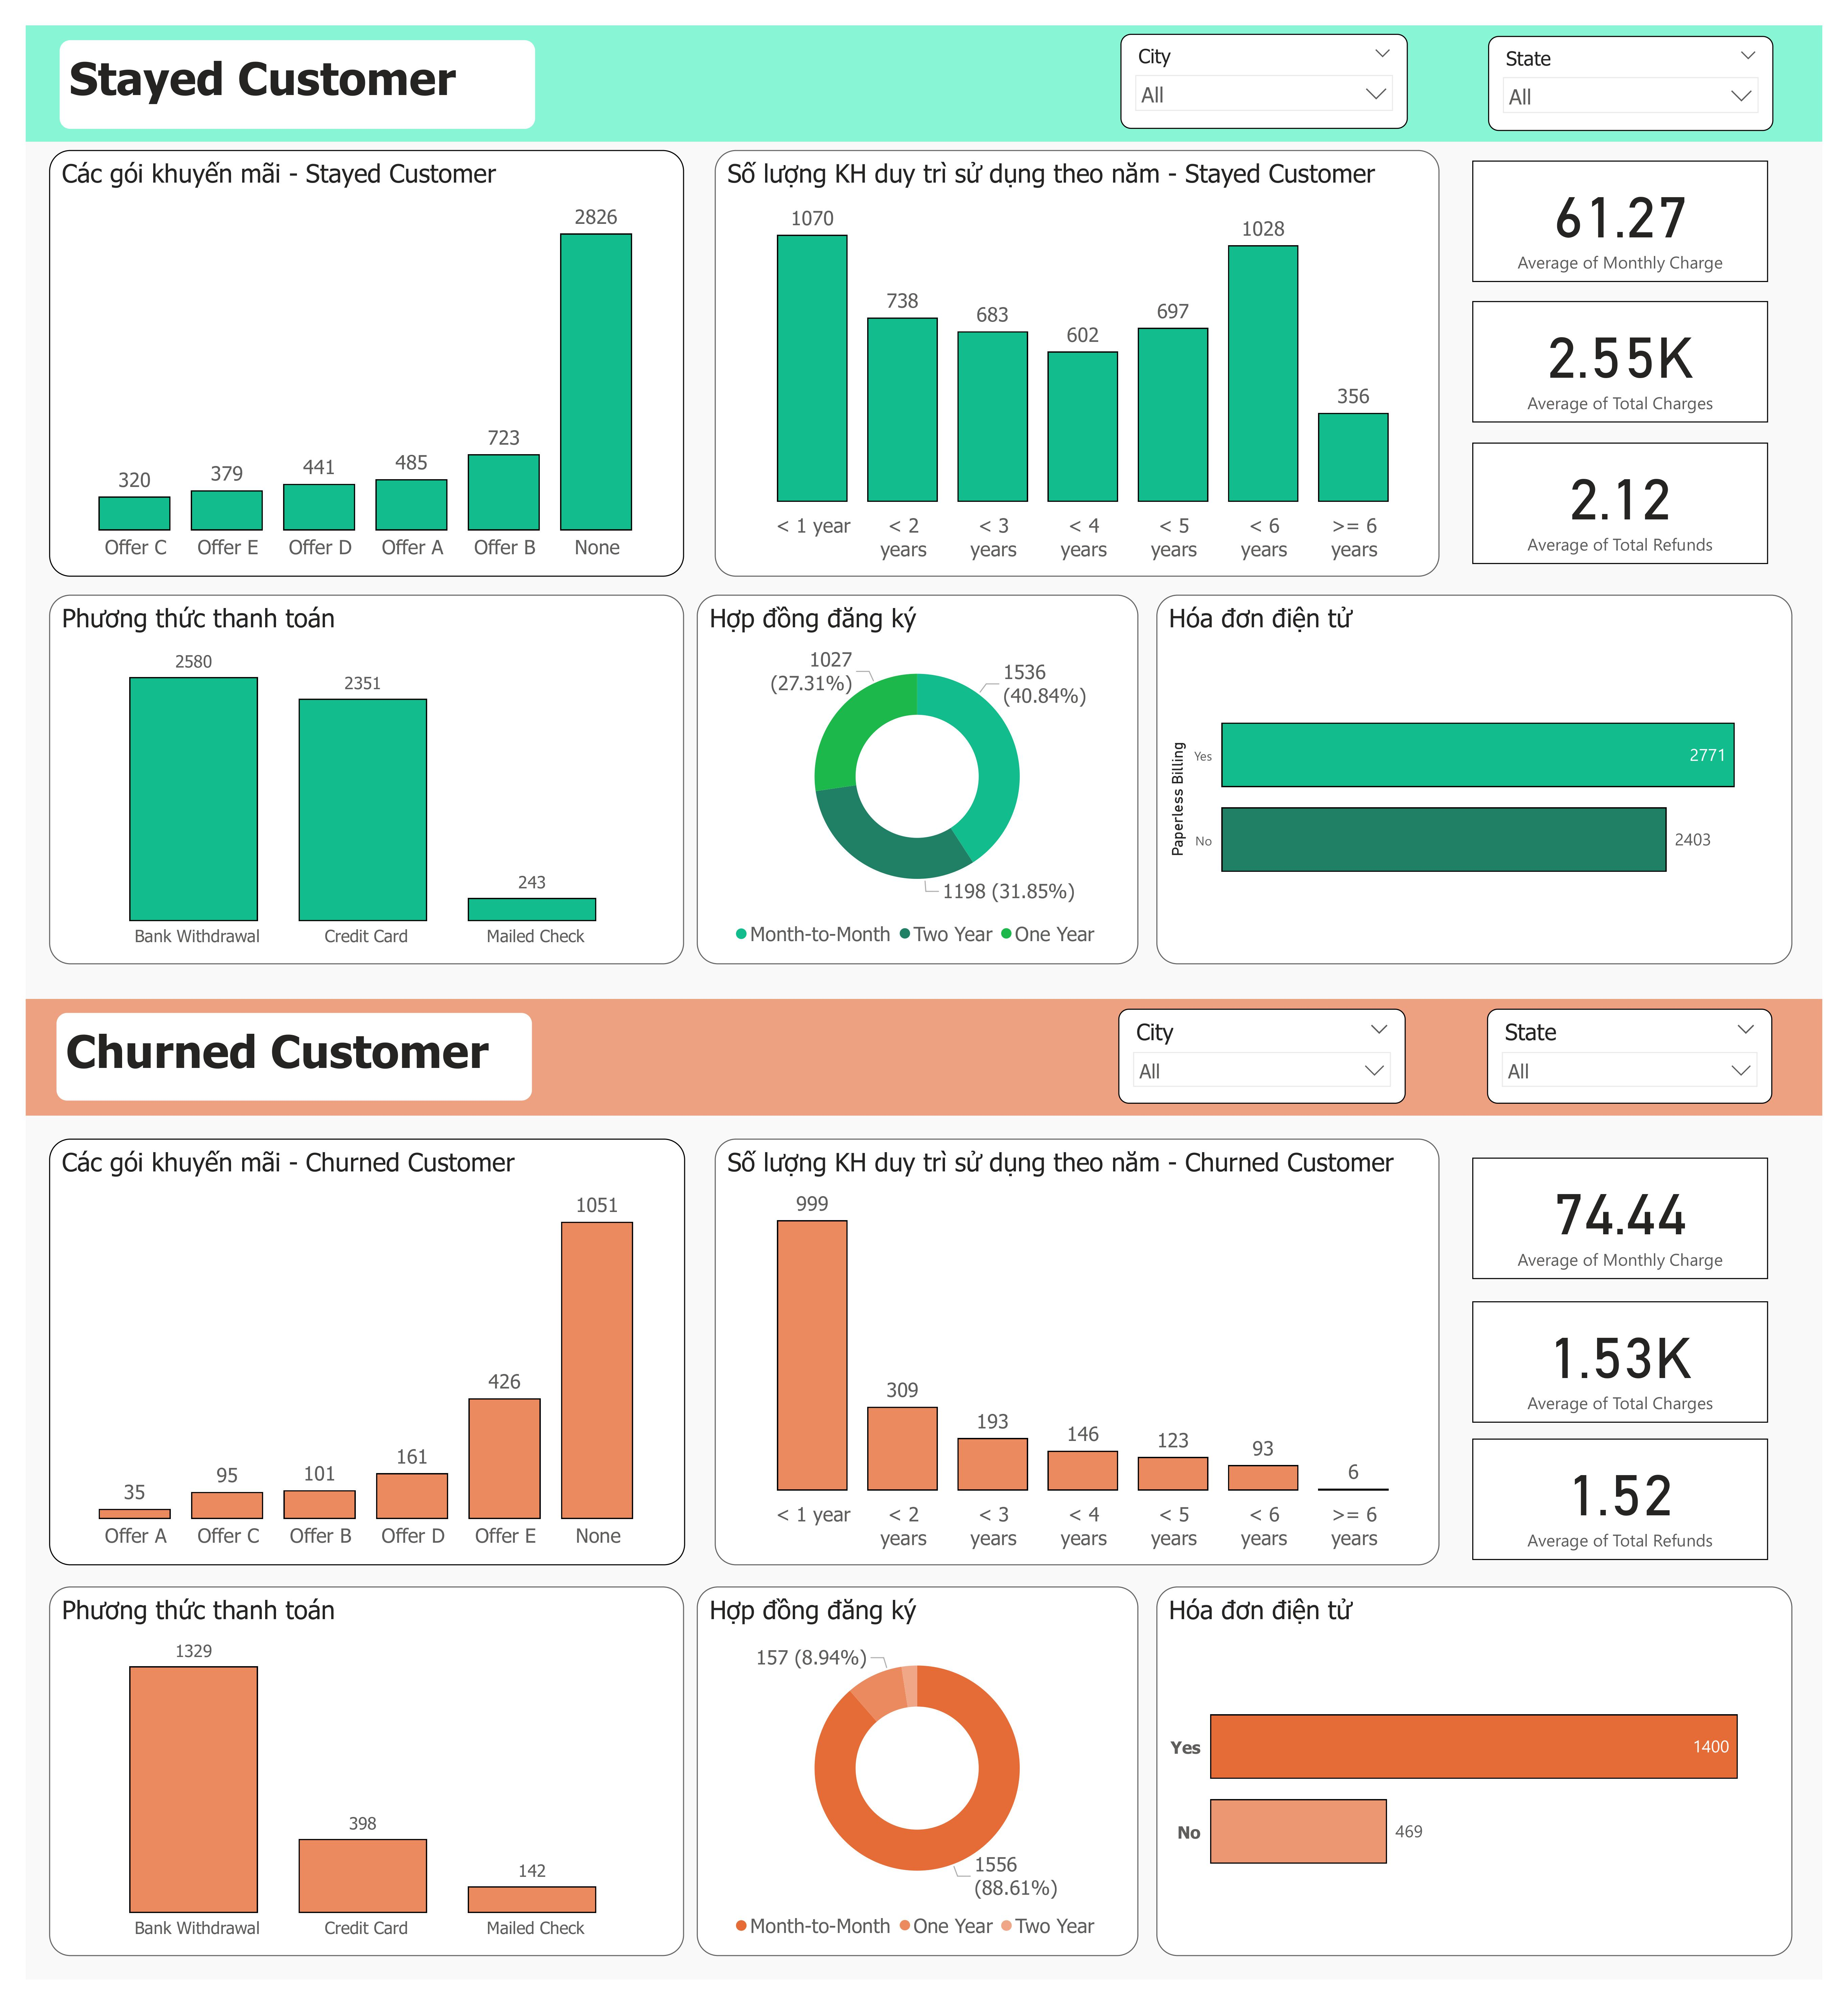

What the dashboard file says about the page in this screenshot:
{"tool":"powerbi","page":{"name":"Contract & Payment","canvas":[1700,1850],"ordinal":2},"visuals":[{"type":"shape","box":[0,922,1700,110],"z":0},{"type":"shape","box":[0,0,1700,110],"z":1000},{"type":"textbox","box":[32,14,450,84],"z":2000},{"type":"textbox","box":[29.3,934.7,450,83.3],"z":3000},{"type":"donutChart","title":"Hợp đồng đăng ký ","fields":{"Category":["Services.Contract"],"Y":["Status.Stayed Customer"]},"box":[635,539.1,418.3,350],"z":4000},{"type":"columnChart","title":"Phương thức thanh toán","fields":{"Category":["Services.Payment Method"],"Y":["Status.Stayed Customer"]},"box":[21.7,539.1,601.7,350],"z":5000},{"type":"barChart","title":"Hóa đơn điện tử","fields":{"Category":["Services.Paperless Billing"],"Y":["Status.Stayed Customer"]},"box":[1070,539.1,601.7,350],"z":6000},{"type":"donutChart","title":"Hợp đồng đăng ký","fields":{"Category":["Services.Contract"],"Y":["Status.Churn Customer"]},"box":[635,1478.3,418.3,350],"z":7000},{"type":"columnChart","title":"Phương thức thanh toán","fields":{"Category":["Services.Payment Method"],"Y":["Status.Churn Customer"]},"box":[21.7,1478.3,601.7,350],"z":8000},{"type":"barChart","title":"Hóa đơn điện tử","fields":{"Category":["Services.Paperless Billing"],"Y":["Status.Churn Customer"]},"box":[1070,1478.3,601.7,350],"z":9000},{"type":"columnChart","title":"Các gói khuyến mãi - Stayed Customer","fields":{"Category":["Services.Offer"],"Y":["Status.Stayed Customer"]},"box":[21.7,118.3,601.7,403.3],"z":10000},{"type":"columnChart","title":"Các gói khuyến mãi - Churned Customer","fields":{"Category":["Services.Offer"],"Y":["Status.Churn Customer"]},"box":[22,1054,602,404],"z":11000},{"type":"card","fields":{"Values":["Avg(Services.Total Charges)"]},"box":[1368.7,261.2,280,115],"z":12000},{"type":"card","fields":{"Values":["Avg(Services.Monthly Charge)"]},"box":[1368.7,127.9,280,115],"z":13000},{"type":"card","fields":{"Values":["Avg(Services.Total Refunds)"]},"box":[1368.7,394.5,280,115],"z":14000},{"type":"card","fields":{"Values":["Avg(Services.Total Charges)"]},"box":[1368.7,1208.3,280,115],"z":15000},{"type":"card","fields":{"Values":["Avg(Services.Monthly Charge)"]},"box":[1368.7,1071.6,280,115],"z":16000},{"type":"card","fields":{"Values":["Avg(Services.Total Refunds)"]},"box":[1368.7,1338.3,280,115],"z":17000},{"type":"columnChart","title":"Số lượng KH duy trì sử dụng theo năm - Stayed Customer","fields":{"Y":["Status.Stayed Customer"],"Category":["Services.Tenure in Year"]},"box":[651.7,118.3,686.7,403.3],"z":18000},{"type":"columnChart","title":"Số lượng KH duy trì sử dụng theo năm - Churned Customer","fields":{"Category":["Services.Tenure in Year"],"Y":["Status.Churn Customer"]},"box":[652,1054,686,404],"z":19000},{"type":"slicer","fields":{"Values":["Location.City"]},"box":[1036,8,272,90],"z":20000},{"type":"slicer","fields":{"Values":["Location.State"]},"box":[1384,10,270,90],"z":21000},{"type":"slicer","fields":{"Values":["Location.City"]},"box":[1034.3,930.5,272,90],"z":22000},{"type":"slicer","fields":{"Values":["Location.State"]},"box":[1382.7,931.3,270,90],"z":23000}]}

Visuals, with their boxes in screenshot pixels (x1, y1, x2, y2), scaled from the page's 1700x1850 canvas onto the 1848x2005 screenshot:
shape: bbox(0, 999, 1848, 1118)
shape: bbox(0, 0, 1848, 119)
textbox: bbox(35, 15, 524, 106)
textbox: bbox(32, 1013, 521, 1103)
"Hợp đồng đăng ký " donutChart: bbox(690, 584, 1145, 963)
"Phương thức thanh toán" columnChart: bbox(24, 584, 678, 963)
"Hóa đơn điện tử" barChart: bbox(1163, 584, 1817, 963)
"Hợp đồng đăng ký" donutChart: bbox(690, 1602, 1145, 1981)
"Phương thức thanh toán" columnChart: bbox(24, 1602, 678, 1981)
"Hóa đơn điện tử" barChart: bbox(1163, 1602, 1817, 1981)
"Các gói khuyến mãi - Stayed Customer" columnChart: bbox(24, 128, 678, 565)
"Các gói khuyến mãi - Churned Customer" columnChart: bbox(24, 1142, 678, 1580)
card - Avg(Services.Total Charges): bbox(1488, 283, 1792, 408)
card - Avg(Services.Monthly Charge): bbox(1488, 139, 1792, 263)
card - Avg(Services.Total Refunds): bbox(1488, 427, 1792, 552)
card - Avg(Services.Total Charges): bbox(1488, 1309, 1792, 1434)
card - Avg(Services.Monthly Charge): bbox(1488, 1161, 1792, 1286)
card - Avg(Services.Total Refunds): bbox(1488, 1450, 1792, 1575)
"Số lượng KH duy trì sử dụng theo năm - Stayed Customer" columnChart: bbox(709, 128, 1455, 565)
"Số lượng KH duy trì sử dụng theo năm - Churned Customer" columnChart: bbox(709, 1142, 1454, 1580)
slicer - Location.City: bbox(1126, 9, 1422, 106)
slicer - Location.State: bbox(1504, 11, 1798, 108)
slicer - Location.City: bbox(1124, 1008, 1420, 1106)
slicer - Location.State: bbox(1503, 1009, 1797, 1107)
